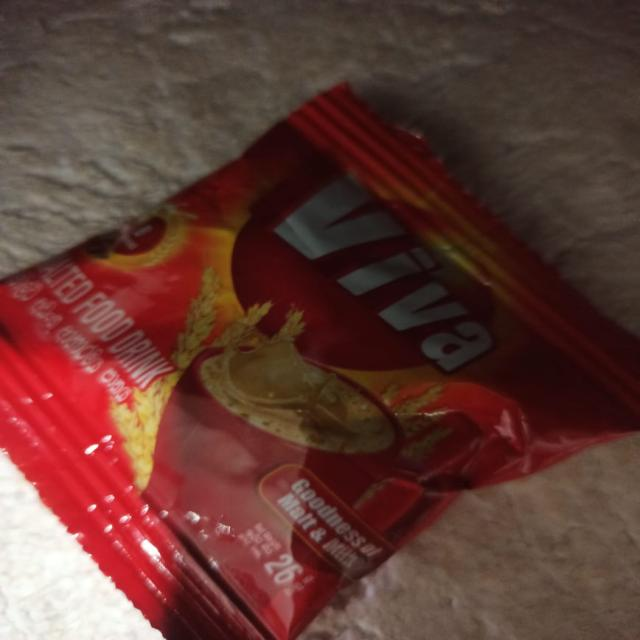Viva Malt: (3, 47, 640, 639)
